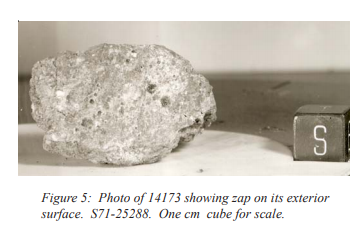Breccia: (36, 37, 257, 163)
